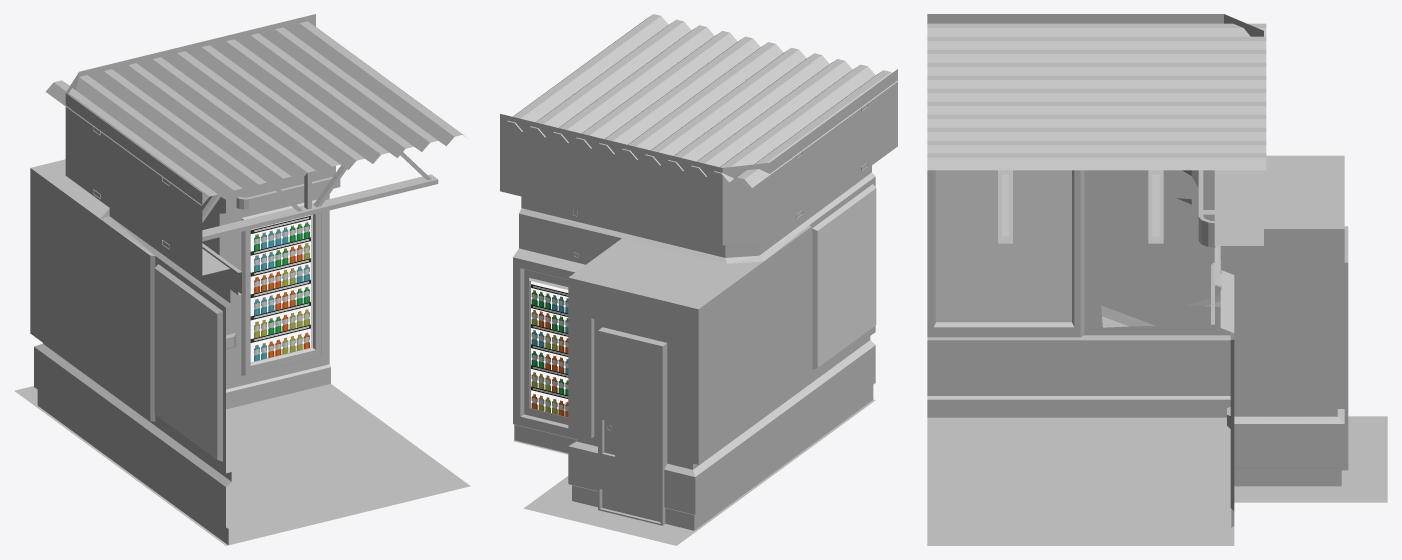
File: Store_Build_Corner_TL_0.dae
3 views of the same model, side by side, from view 1: azimuth 30°, elevation 25°; view 2: azimuth 150°, elevation 25°; view 3: azimuth 270°, elevation 25° (orthographic). The views are drawn at different scales.
Visible parts, largest first — view 1: Store_Corner_TL; view 2: Store_Corner_TL; view 3: Store_Corner_TL.
Part boxes in pixels (bbox=[...]): Store_Corner_TL: bbox=[14, 14, 470, 545]; Store_Corner_TL: bbox=[500, 14, 898, 545]; Store_Corner_TL: bbox=[927, 14, 1387, 545].
Bounding box in the file's own units: 2.2 × 3 × 2.8.
